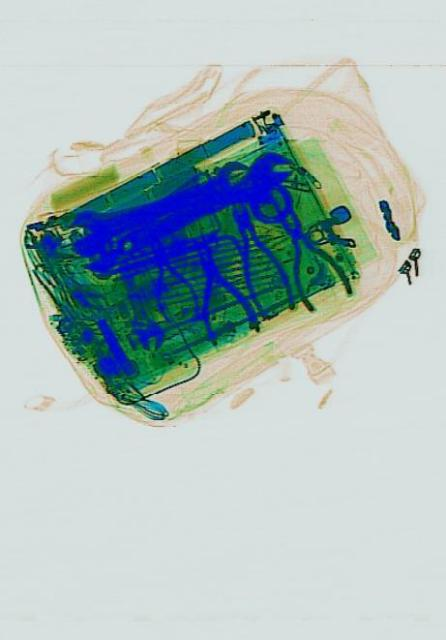Pliers: (258, 178, 351, 322), (173, 218, 257, 356), (215, 188, 297, 328), (137, 229, 202, 333)
Wrench: (93, 138, 297, 276), (64, 153, 253, 261), (106, 236, 165, 354)
